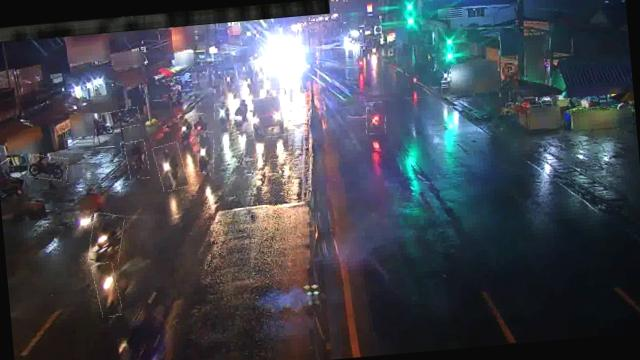Bike: (87, 211, 126, 266), (154, 142, 187, 192), (92, 262, 121, 318), (27, 153, 69, 182), (125, 140, 150, 180), (196, 131, 217, 173), (107, 108, 141, 130), (365, 101, 387, 135), (230, 98, 250, 132), (178, 115, 192, 144), (214, 104, 228, 129), (192, 114, 205, 139), (223, 70, 234, 89)
Car: (248, 94, 288, 138)
